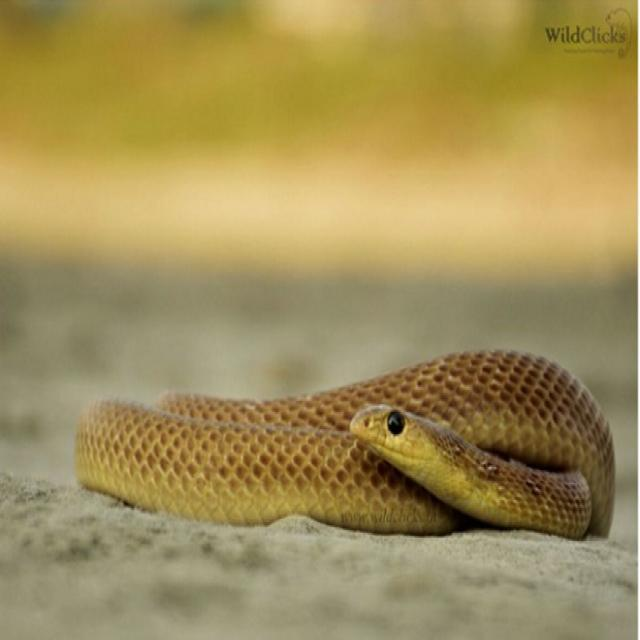Snake: (74, 346, 616, 540)
